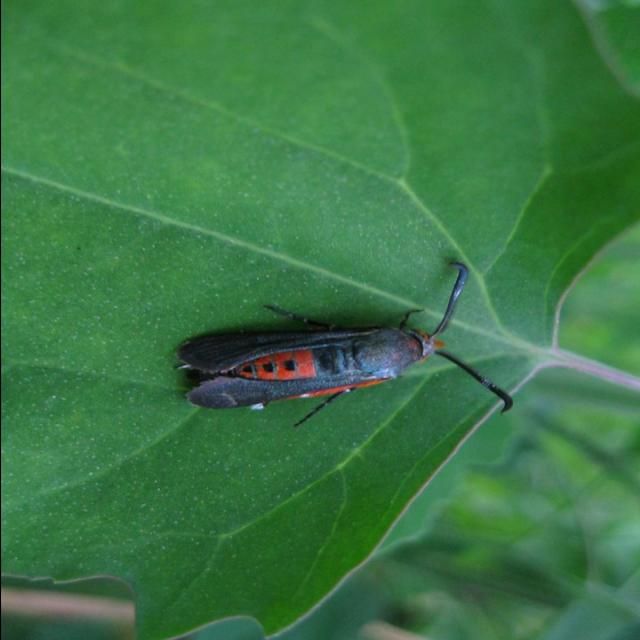squash_vine_borer: (162, 252, 522, 434)
